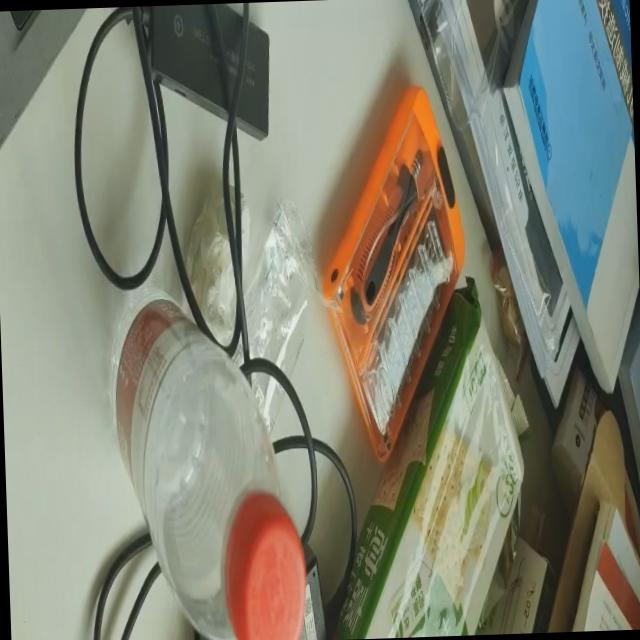good: (108, 278, 311, 640)
